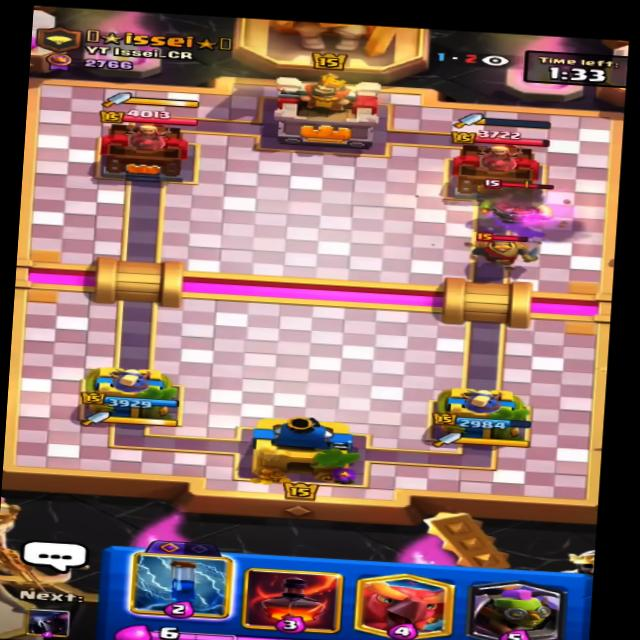goblin-demolisher: (476, 178, 559, 230)
knight: (467, 226, 542, 274)
